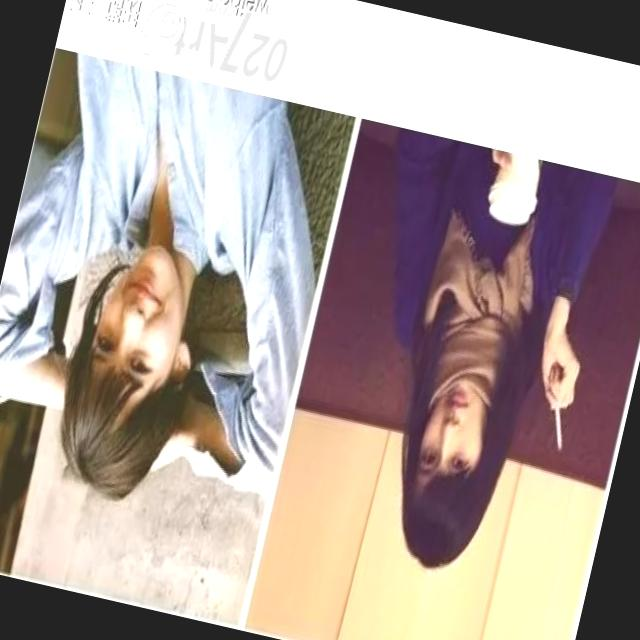smoke: (540, 406, 578, 464)
